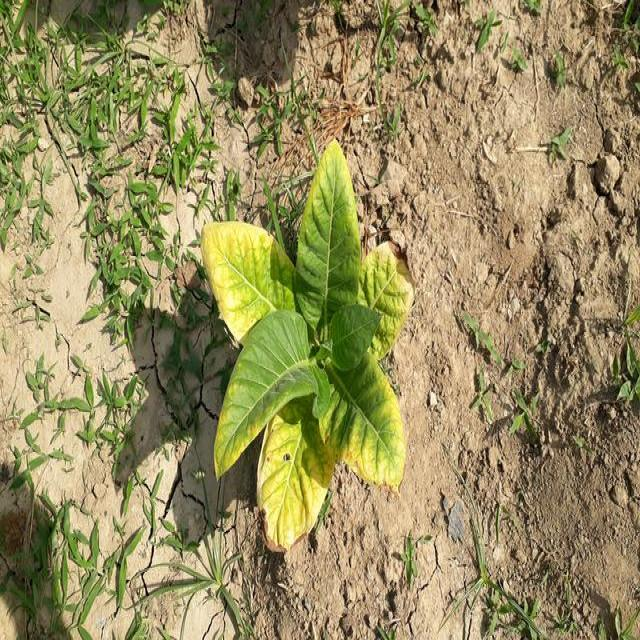crop: (204, 138, 414, 557)
